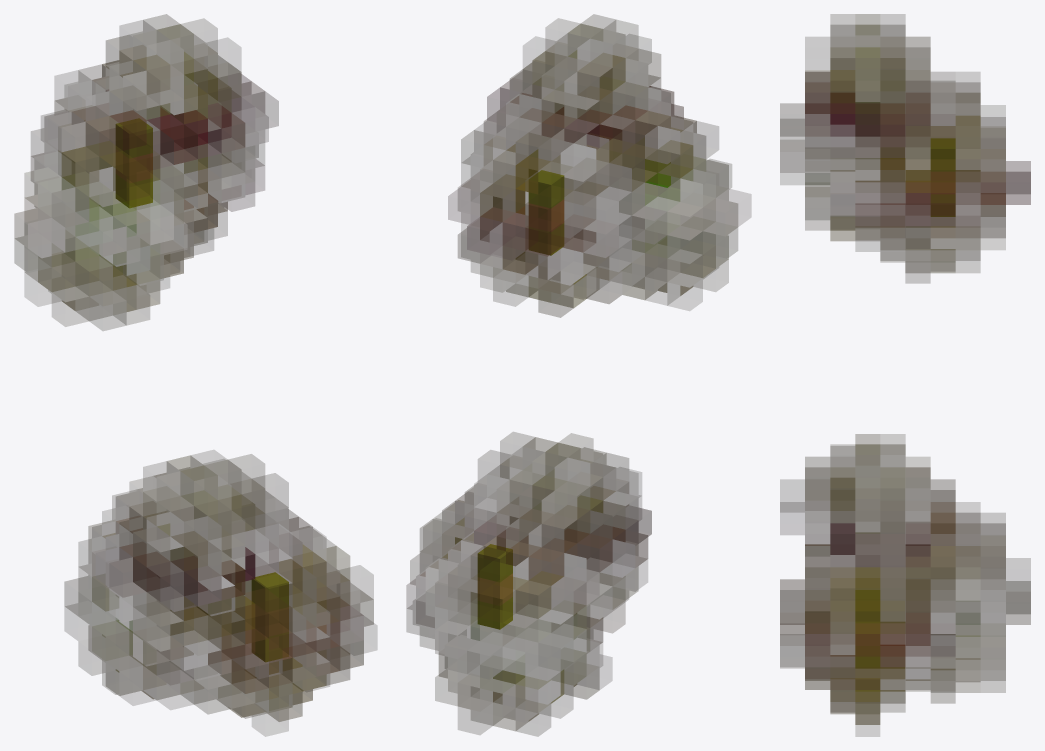
The model's file is iter_10.obj.
3 renders of one model, left to right at view 1: azimuth 30°, elevation 25°; view 2: azimuth 150°, elevation 25°; view 3: azimuth 270°, elevation 25°, orthographic. The views are drawn at different scales.
Parts seen in each view (by area): view 1: iter_10; view 2: iter_10; view 3: iter_10.
Boxes of the visible parts, x1,y1,x2,y2 form: iter_10: (14,14,376,736); iter_10: (406,14,750,736); iter_10: (780,14,1030,736).
Size of the model in its own units: 1.4 by 2.9 by 1.
